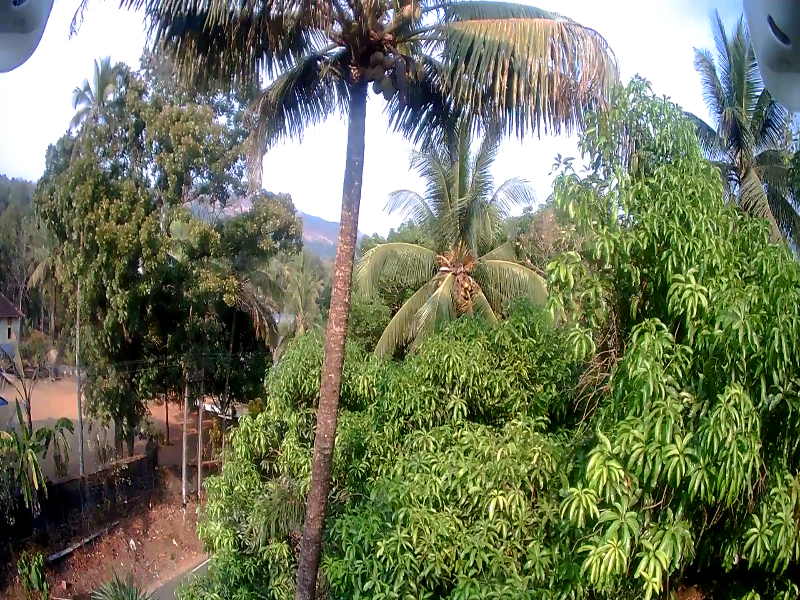coconut: (413, 6, 425, 23), (397, 6, 411, 20), (368, 49, 379, 64), (381, 48, 389, 68), (364, 83, 377, 95), (383, 87, 394, 101), (361, 63, 369, 80), (380, 76, 387, 85)
